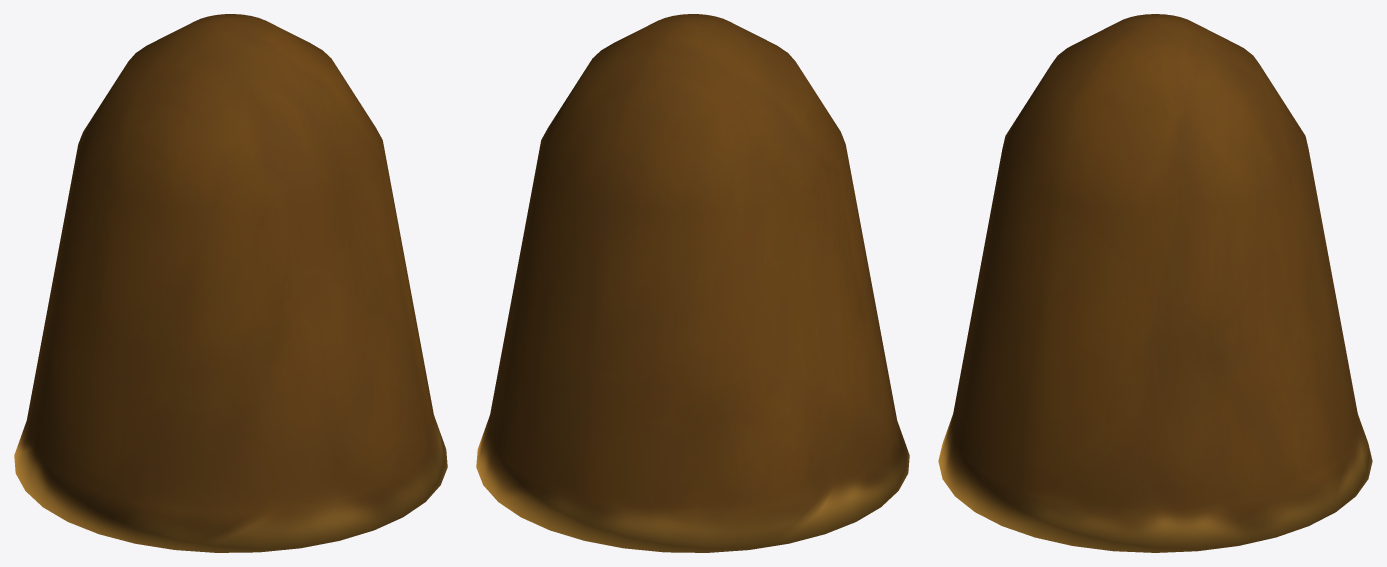
Rendered from ChocolateKiss.fbx.
The picture shows the model from 3 angles, left to right: view 1: azimuth 30°, elevation 25°; view 2: azimuth 150°, elevation 25°; view 3: azimuth 270°, elevation 25°; orthographic projection.
Parts seen in each view (by area): view 1: Cylinder; view 2: Cylinder; view 3: Cylinder.
Part boxes in pixels (x1,y1,x2,y2): Cylinder: [14, 14, 447, 552]; Cylinder: [476, 14, 909, 552]; Cylinder: [938, 14, 1372, 552].
Bounding box in the file's own units: 284 × 318 × 284.
1 material, 1 textured.
